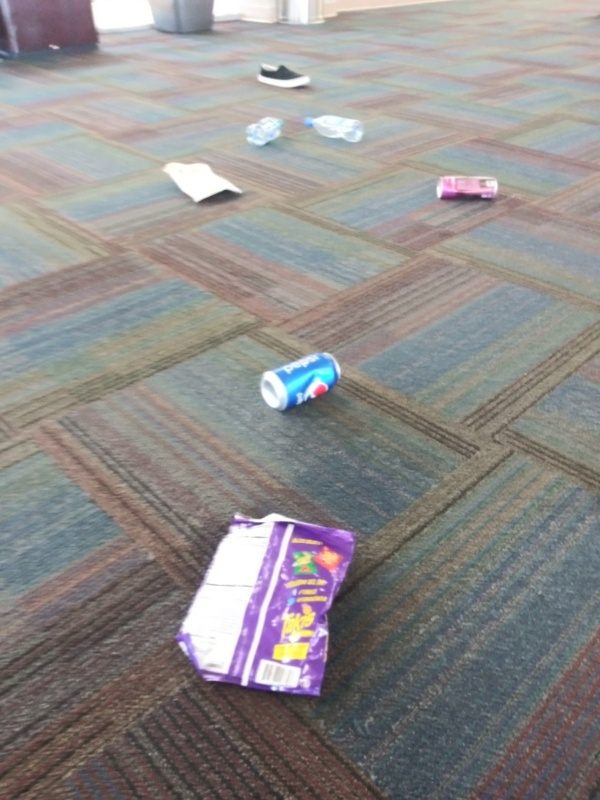bag: (173, 507, 363, 704), (157, 158, 247, 206)
bottle: (300, 110, 368, 148), (241, 115, 291, 147)
can: (257, 348, 347, 416), (434, 172, 502, 207)
